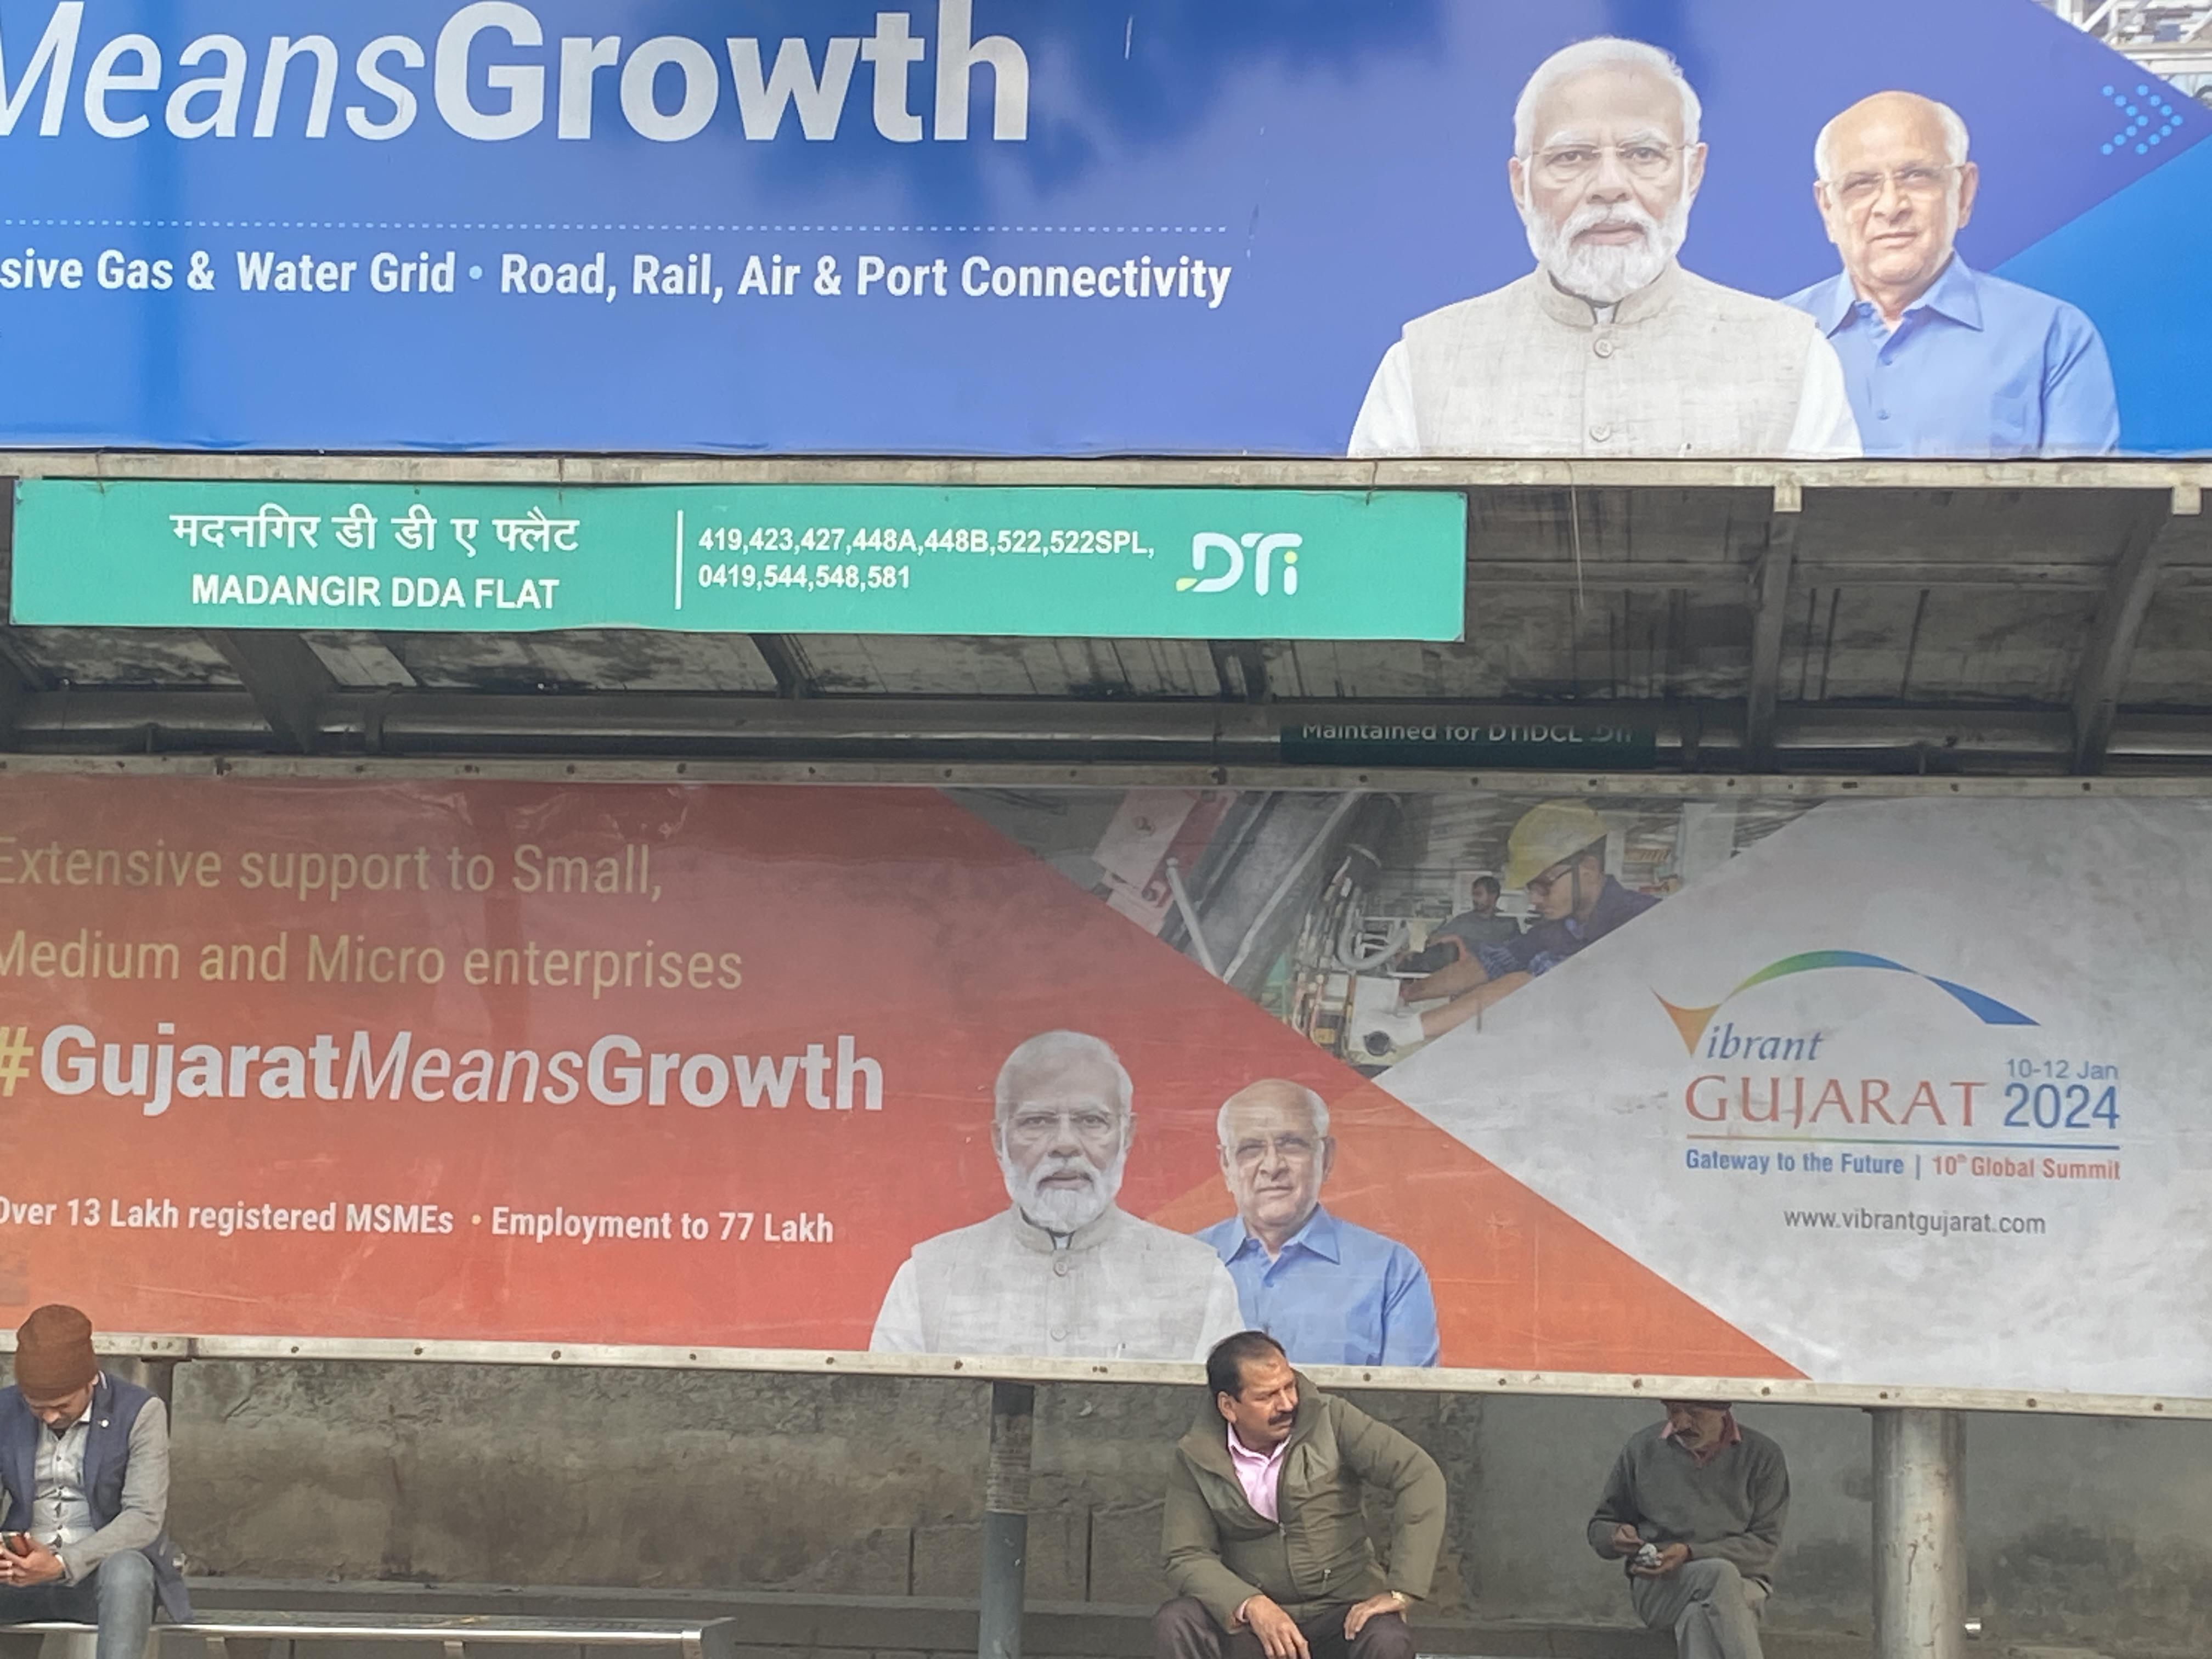Bus-stop-board: (0, 444, 1508, 664)
